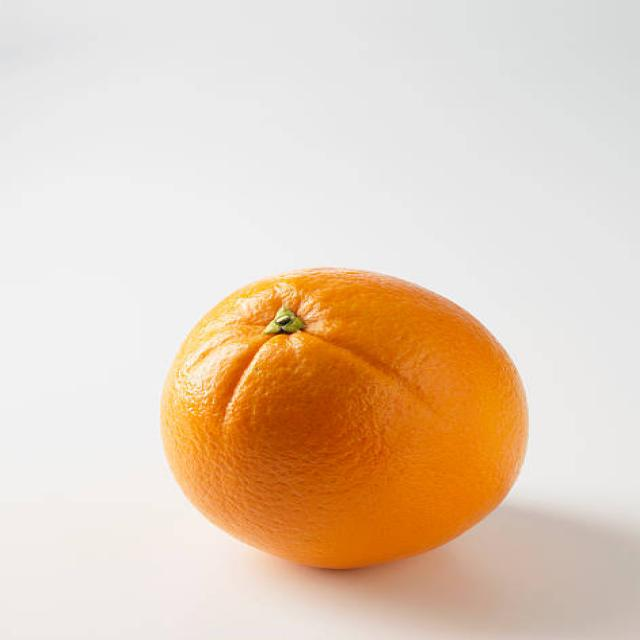orange: (161, 269, 529, 569)
